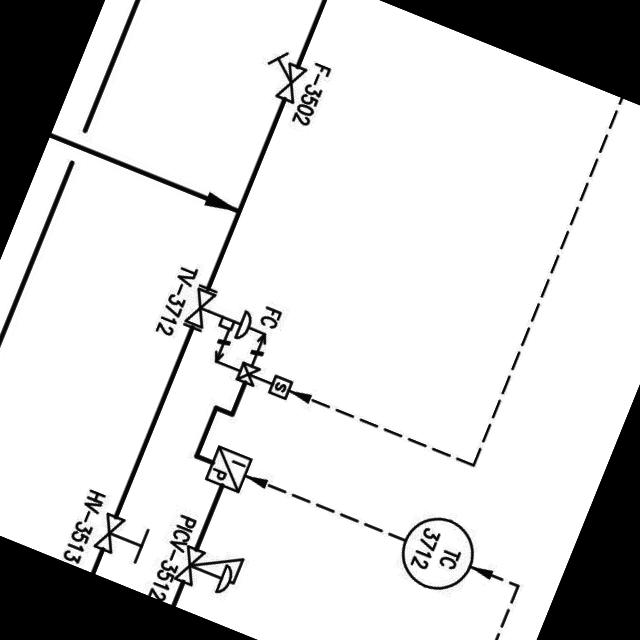CBV: (162, 276, 320, 402)
EPA: (196, 437, 261, 503)
HVWT: (89, 504, 157, 572)
PCV: (170, 532, 252, 607)
S: (254, 42, 318, 112)
